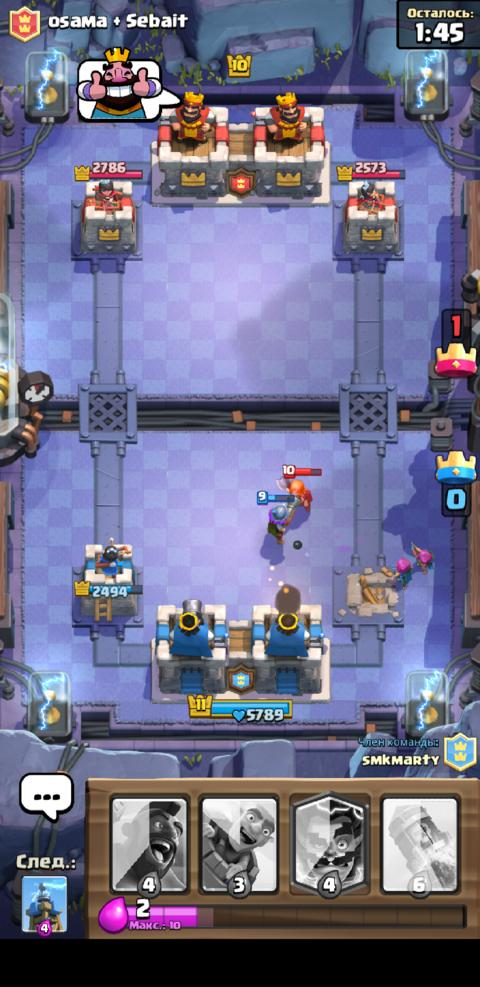ally_archer: (383, 557, 413, 590), (409, 539, 435, 574)
ally_musketeer: (255, 489, 301, 545)
enemy_valkyrie: (274, 463, 323, 513)
